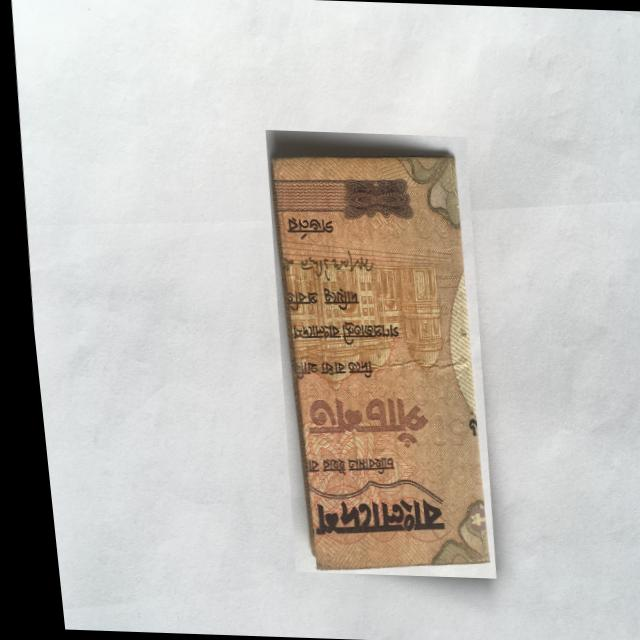Taka: (247, 130, 499, 578)
